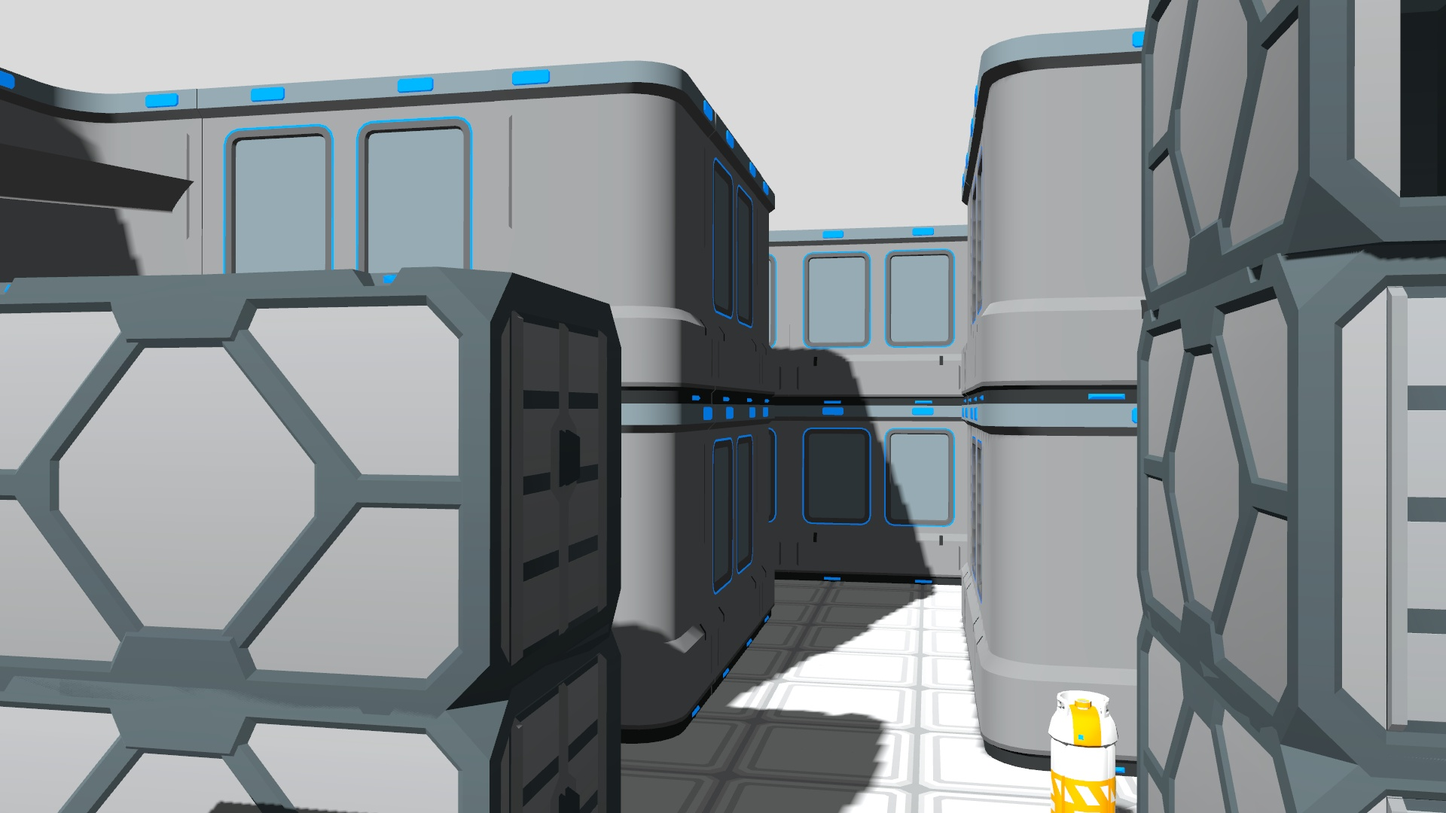yellow_barrel: (1048, 686, 1121, 812)
